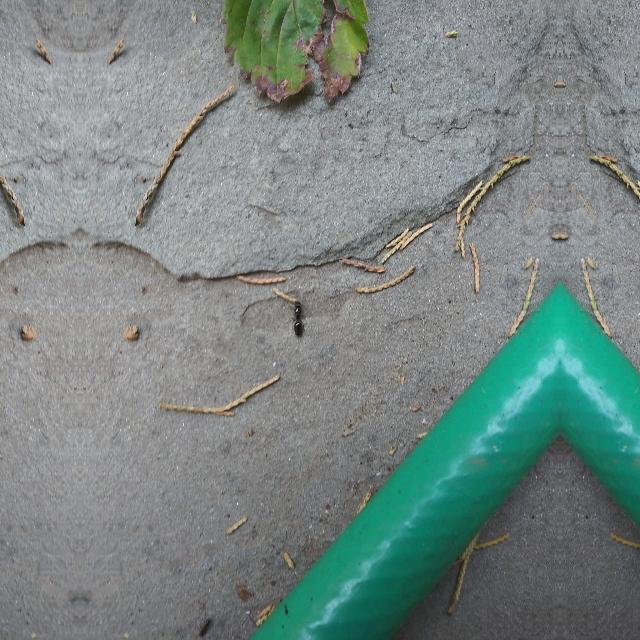Tetramorium: (286, 300, 316, 338)
